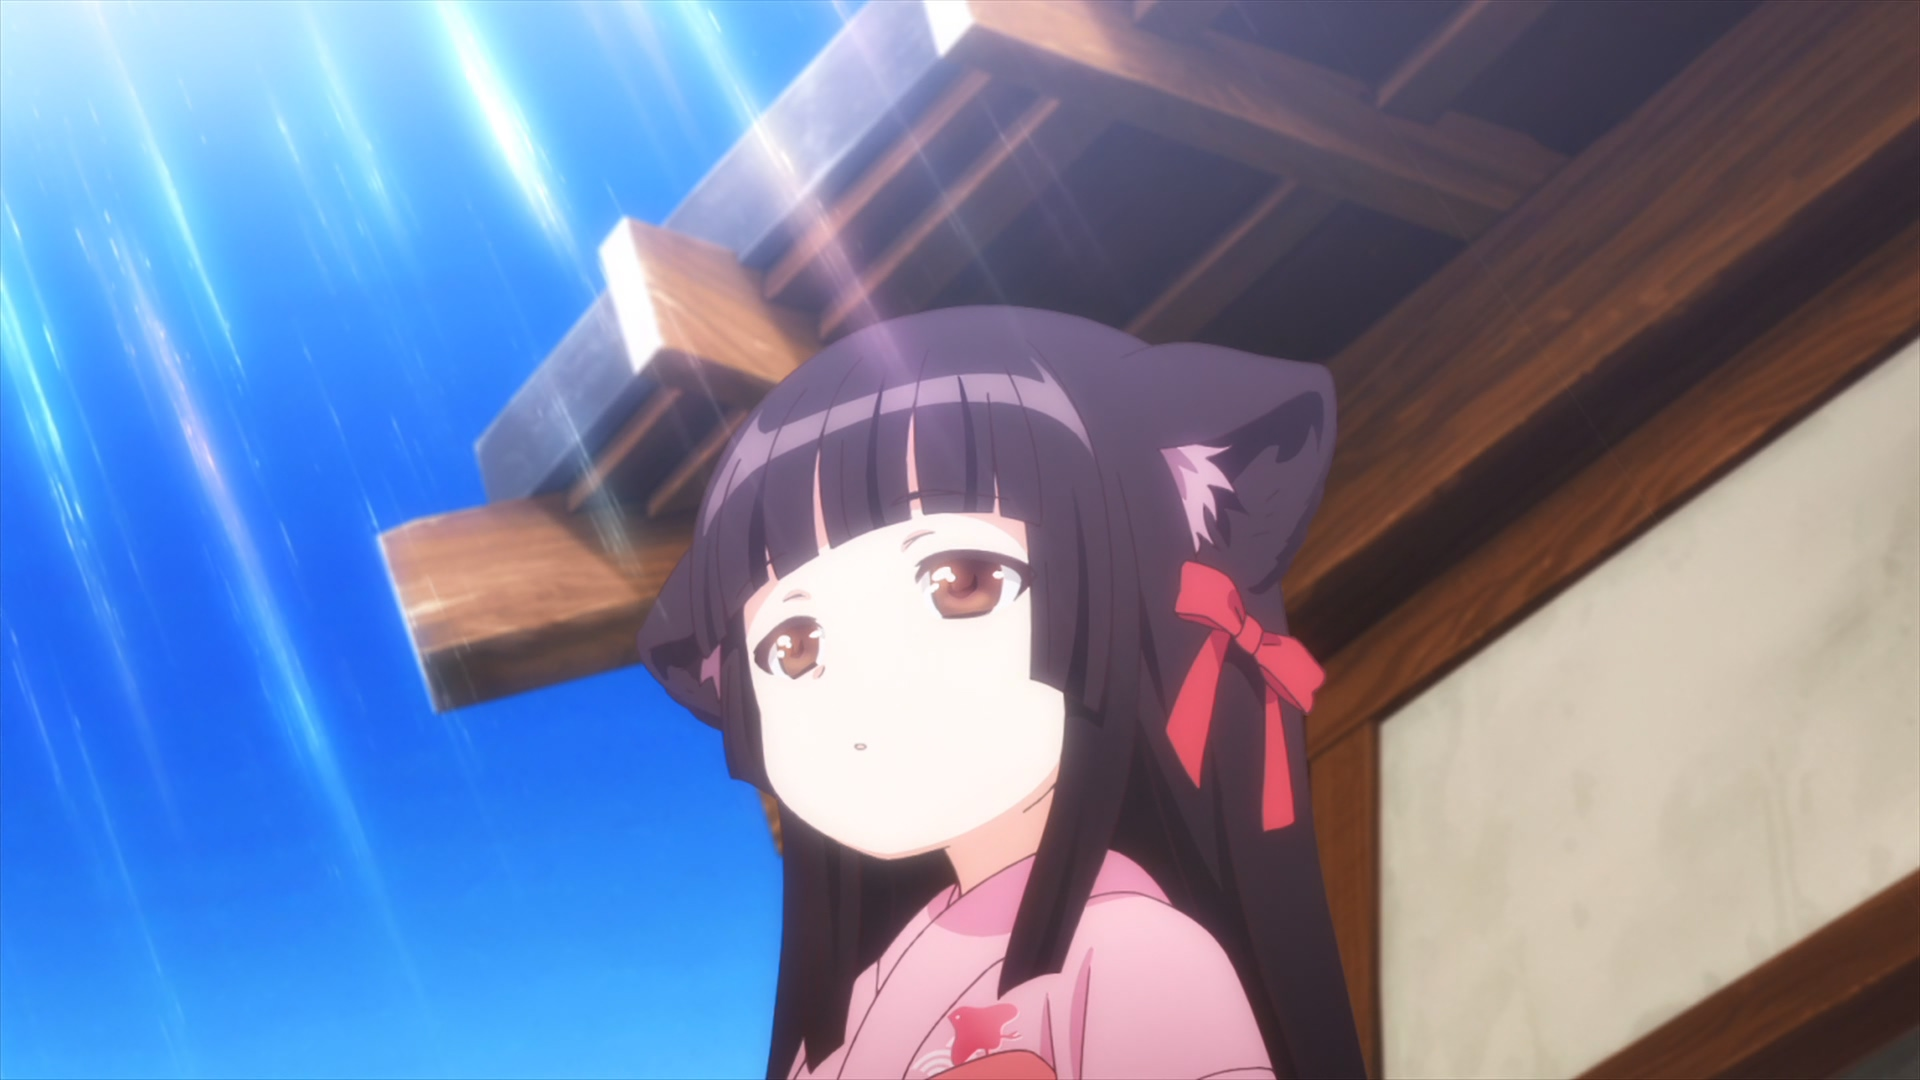樱: (637, 303, 1364, 1080)
